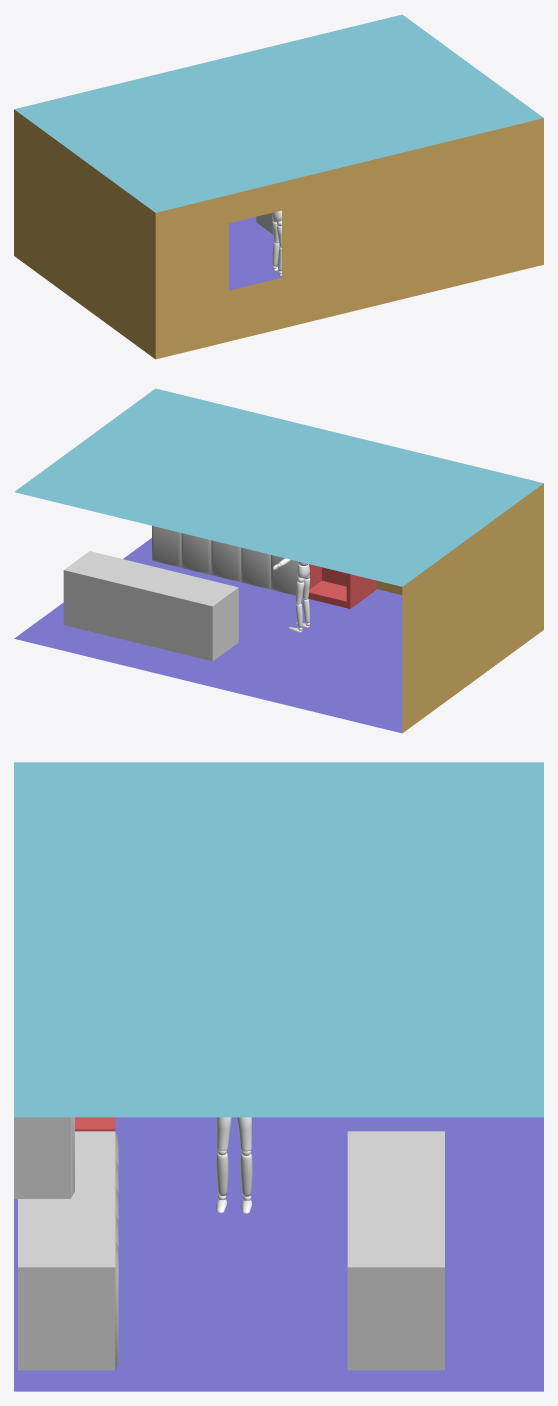
The model's file is KitchenScene01.gltf.
3 views of the same model, one above another, from view 1: azimuth 30°, elevation 25°; view 2: azimuth 150°, elevation 25°; view 3: azimuth 270°, elevation 25° (orthographic). The views are drawn at different scales.
Visible parts, largest first — view 1: Walls, Roof, Floor; view 2: Roof, Floor, Walls, Island, CounterTop, CounterTop.1; view 3: Roof, Floor, Island, CounterTop, Cabinets.
Part boxes in pixels (<box>): Walls: <box>14,109,543,359</box>; Roof: <box>14,14,543,212</box>; Floor: <box>229,217,281,290</box>; Roof: <box>14,388,543,586</box>; Floor: <box>14,538,402,733</box>; Walls: <box>376,483,543,733</box>; Island: <box>63,551,238,661</box>; CounterTop: <box>152,526,298,595</box>; CounterTop.1: <box>308,564,376,608</box>; Roof: <box>14,762,543,1117</box>; Floor: <box>14,1117,543,1391</box>; Island: <box>347,1131,444,1370</box>; CounterTop: <box>18,1131,118,1370</box>; Cabinets: <box>14,1117,74,1198</box>.
Size of the model in its own units: 6.76 by 2.44 by 4.27.
